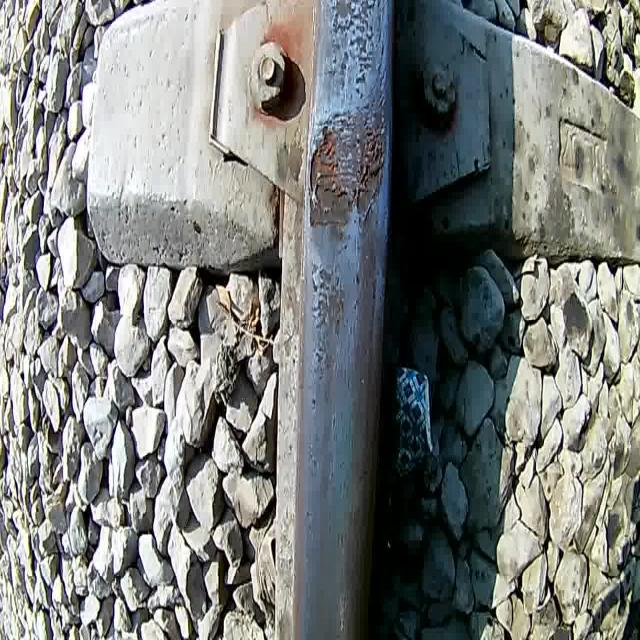Spallings: (304, 105, 389, 232)
Squats: (323, 0, 394, 104), (307, 253, 352, 376)
